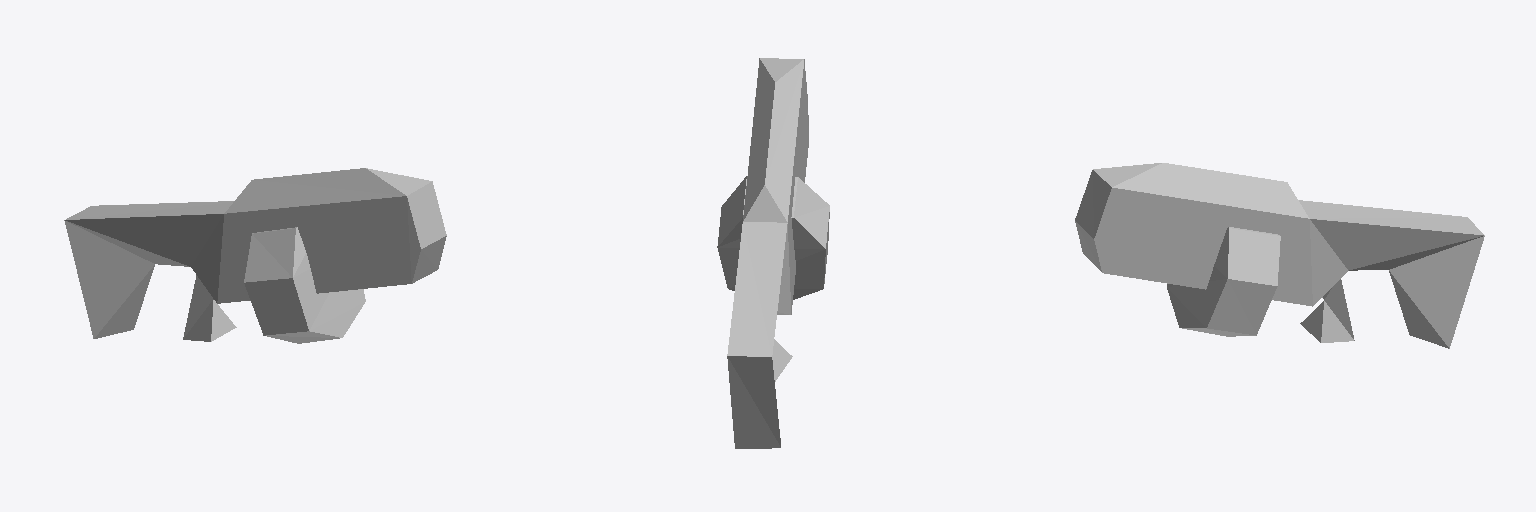
Rendered from weapon.obj.
The picture shows the model from 3 angles: view 1: azimuth 30°, elevation 25°; view 2: azimuth 150°, elevation 25°; view 3: azimuth 270°, elevation 25°; orthographic projection.
Size of the model in its own units: 11.71 by 13.52 by 21.24.